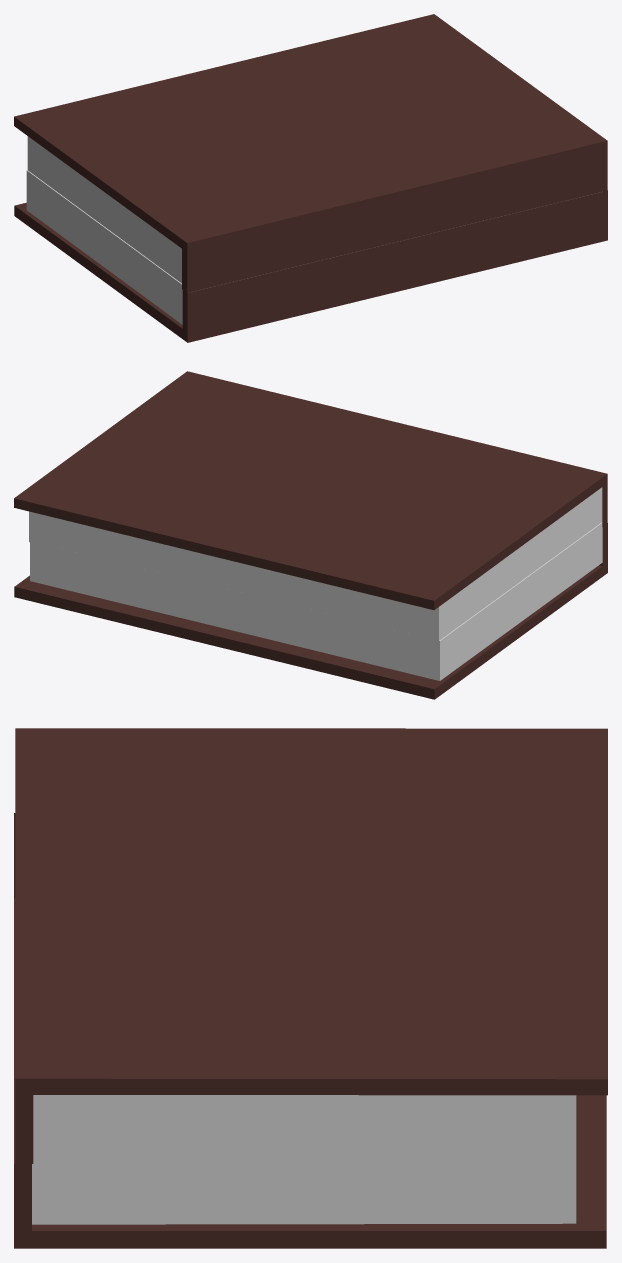
Rendered from bookthatopens.fbx.
3 views of the same model, one above another, from view 1: azimuth 30°, elevation 25°; view 2: azimuth 150°, elevation 25°; view 3: azimuth 270°, elevation 25° (orthographic). The views are drawn at different scales.
Parts seen in each view (by area): view 1: Plane.001, Plane, Cube, Cube.001; view 2: Plane.001, Cube, Cube.001, Plane; view 3: Plane.001, Cube, Cube.001, Plane.
Boxes of the visible parts, x1=… form: Plane.001: x1=14, y1=14, x2=607, y2=292; Plane: x1=14, y1=190, x2=607, y2=342; Cube: x1=26, y1=170, x2=580, y2=324; Cube.001: x1=27, y1=136, x2=181, y2=283; Plane.001: x1=14, y1=371, x2=607, y2=609; Cube: x1=30, y1=522, x2=602, y2=680; Cube.001: x1=29, y1=487, x2=602, y2=640; Plane: x1=14, y1=523, x2=607, y2=699; Plane.001: x1=15, y1=728, x2=607, y2=1163; Cube: x1=32, y1=1158, x2=576, y2=1224; Cube.001: x1=33, y1=1095, x2=576, y2=1159; Plane: x1=14, y1=813, x2=606, y2=1248.
Size of the model in its own units: 200 by 45.24 by 143.
